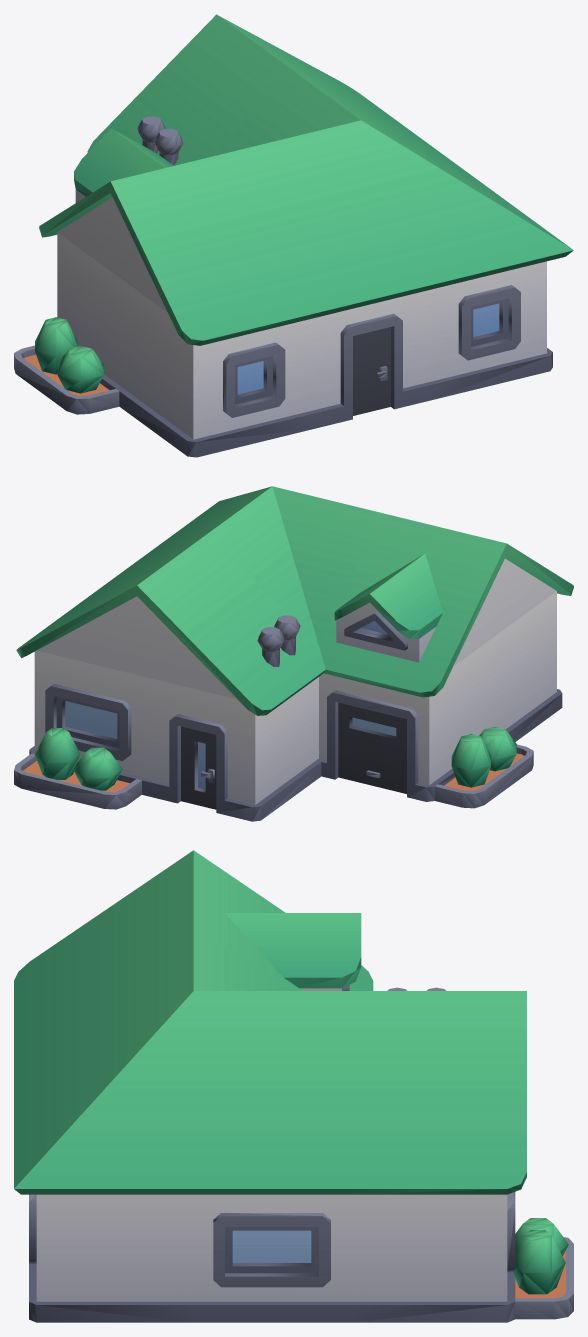
The model's file is ks_house_m.fbx.
3 renders of one model, top to bottom at view 1: azimuth 30°, elevation 25°; view 2: azimuth 150°, elevation 25°; view 3: azimuth 270°, elevation 25°, orthographic. The views are drawn at different scales.
Parts seen in each view (by area): view 1: ks_house_m_LOD0; view 2: ks_house_m_LOD0; view 3: ks_house_m_LOD0.
Part boxes in pixels (x1,y1,x2,y2): ks_house_m_LOD0: [14, 14, 573, 457]; ks_house_m_LOD0: [14, 486, 573, 821]; ks_house_m_LOD0: [14, 850, 573, 1322].
Size of what is drawn, in the model's own units: 12.14 by 6.27 by 12.14.
